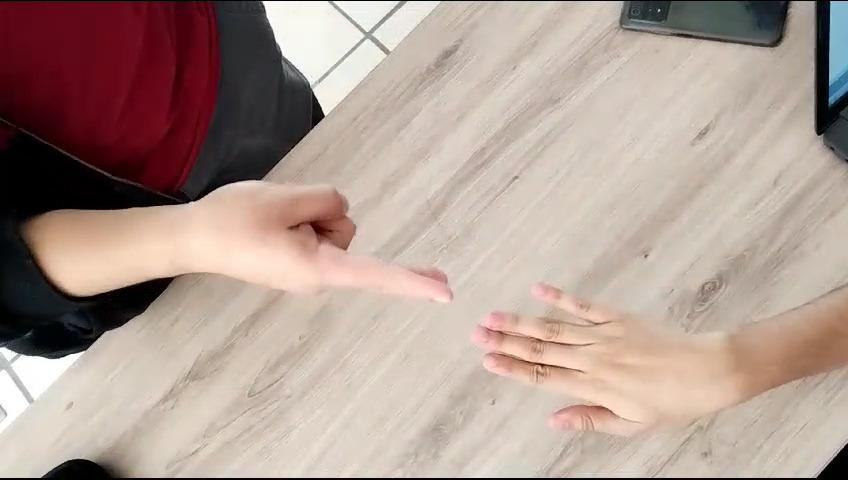Paper: (462, 267, 755, 445)
Scissor: (163, 158, 458, 320)
